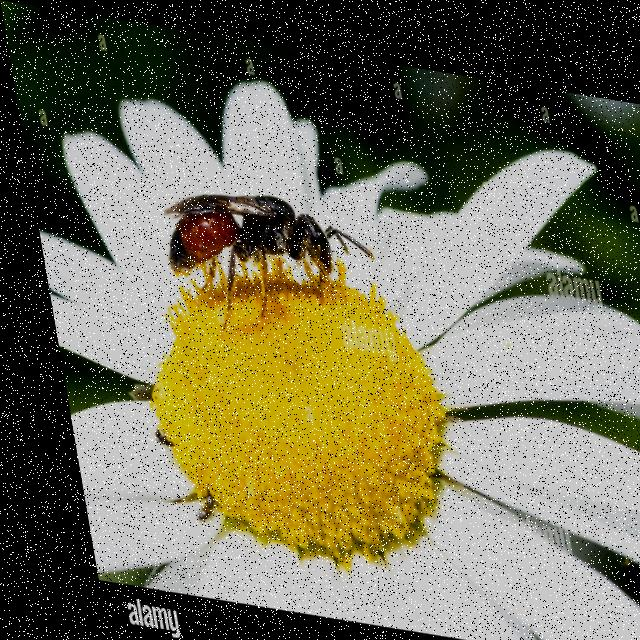Allodapula: (142, 160, 384, 351)
